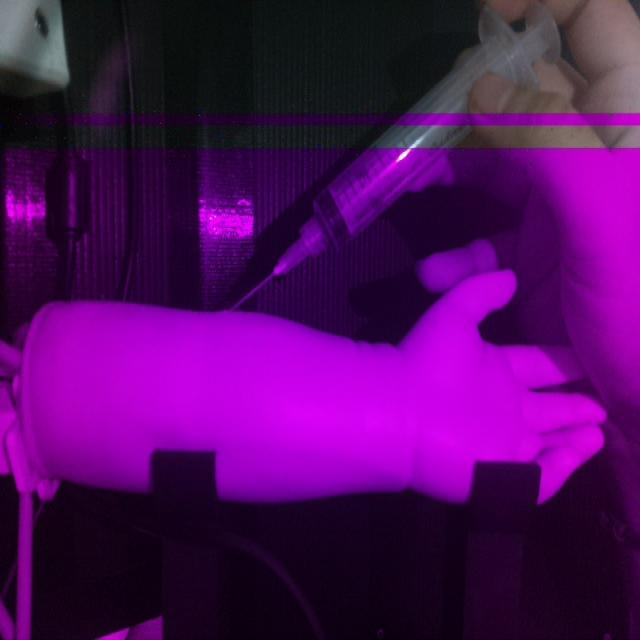Outside: (226, 0, 563, 311)
